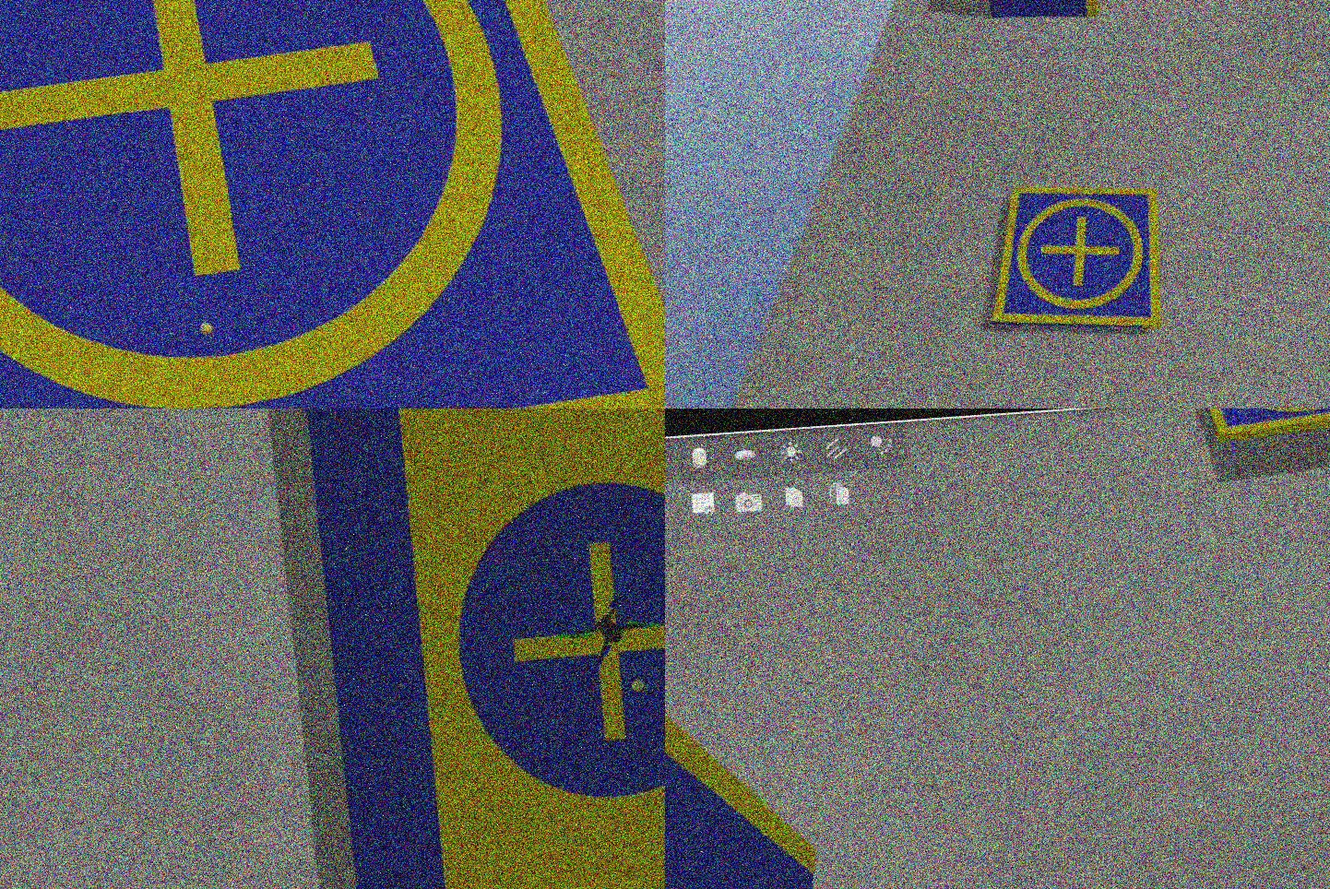large_base: (300, 409, 666, 889)
small_base: (1, 1, 666, 409), (982, 180, 1167, 339), (1211, 409, 1330, 439)
